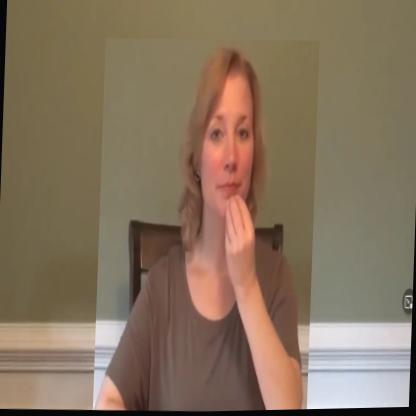Food: (93, 34, 320, 414)
